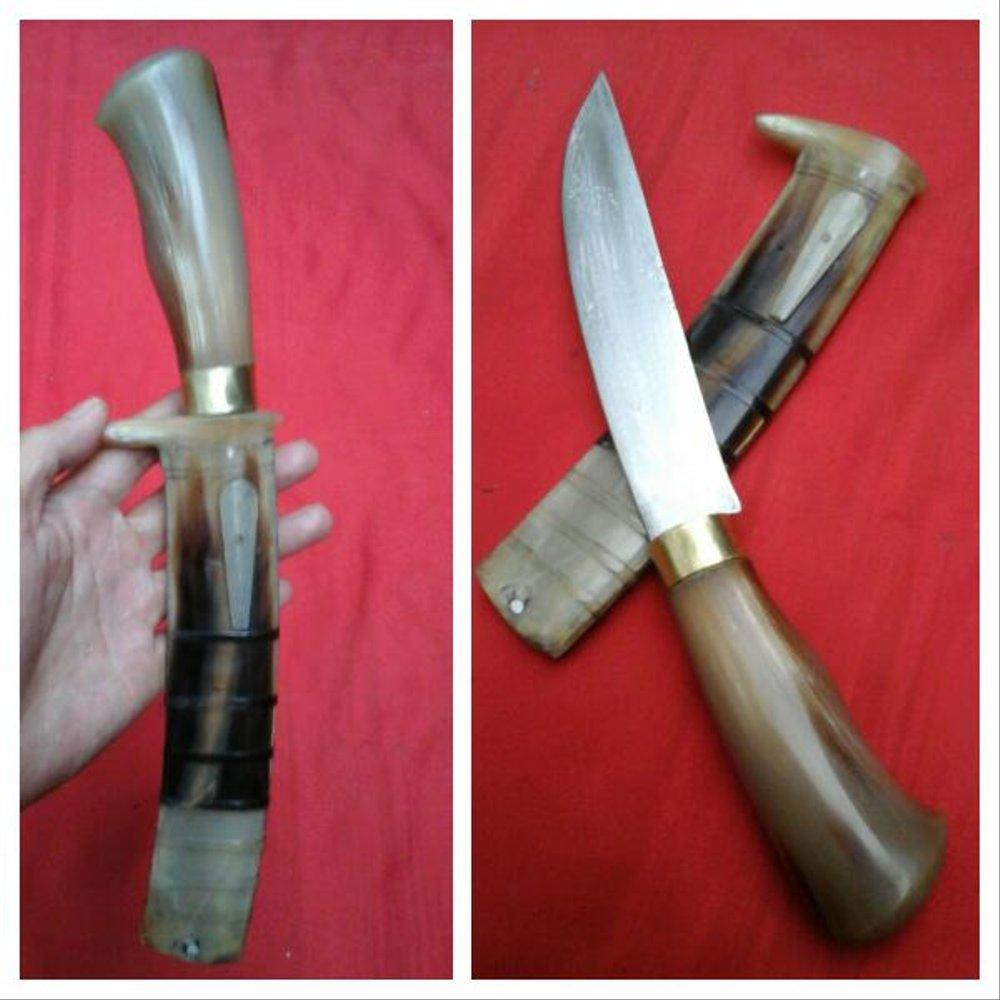facao: (560, 66, 947, 910), (103, 48, 293, 944)
